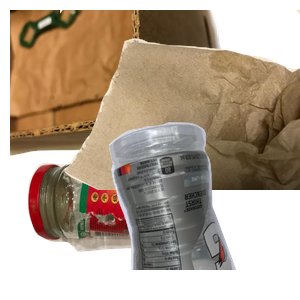cardboard: (10, 10, 237, 158)
glass: (25, 155, 227, 300)
plastic: (106, 120, 300, 300)
trash: (60, 10, 300, 190)
